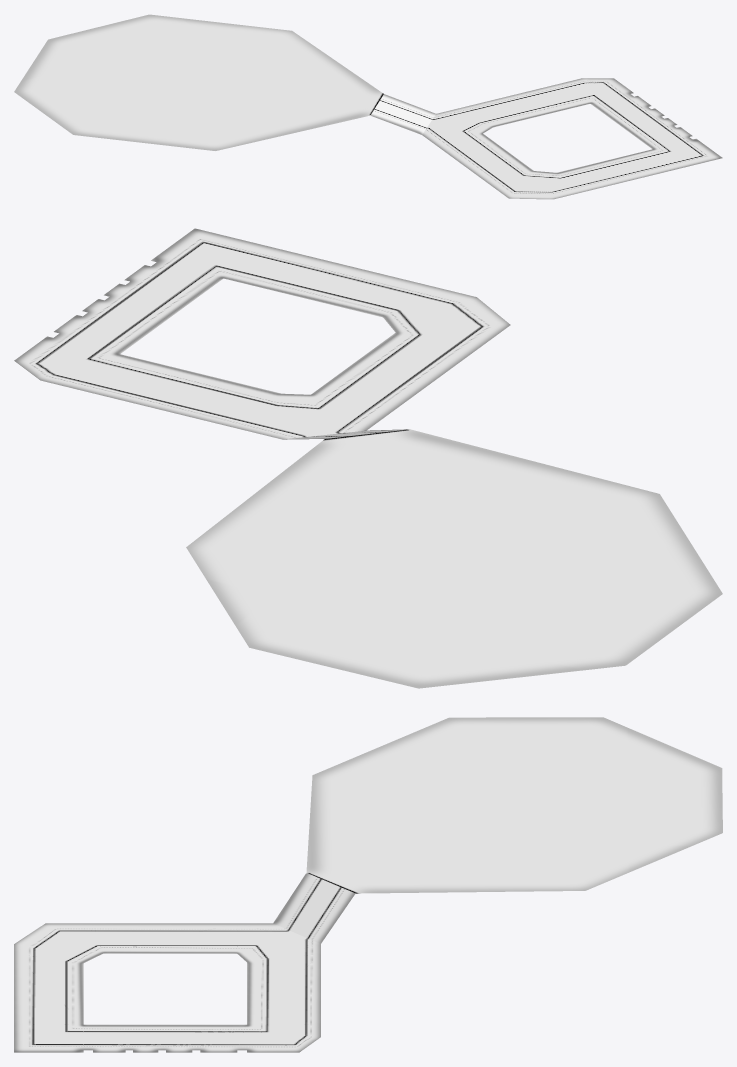
The model's file is zone-nav.glb.
3 renders of one model, top to bottom at view 1: azimuth 30°, elevation 25°; view 2: azimuth 150°, elevation 25°; view 3: azimuth 270°, elevation 25°, orthographic. The views are drawn at different scales.
Visible parts, largest first — view 1: nav-mesh; view 2: nav-mesh; view 3: nav-mesh.
Part boxes in pixels (left/top/right/bottom): nav-mesh: left=14, top=14, right=722, bottom=199; nav-mesh: left=14, top=228, right=722, bottom=688; nav-mesh: left=14, top=717, right=722, bottom=1052.
Size of the model in its own units: 54.39 by 2.1 by 52.62.
Materials: 1 (1 with a texture image).
